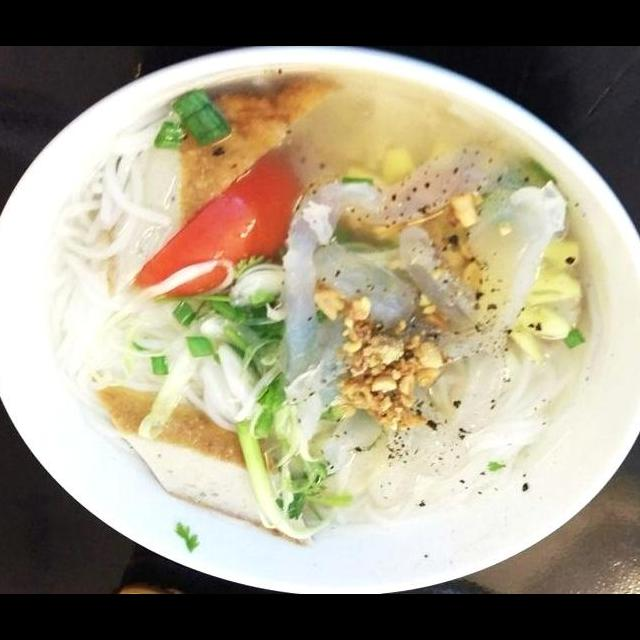bun: (46, 99, 202, 421)
